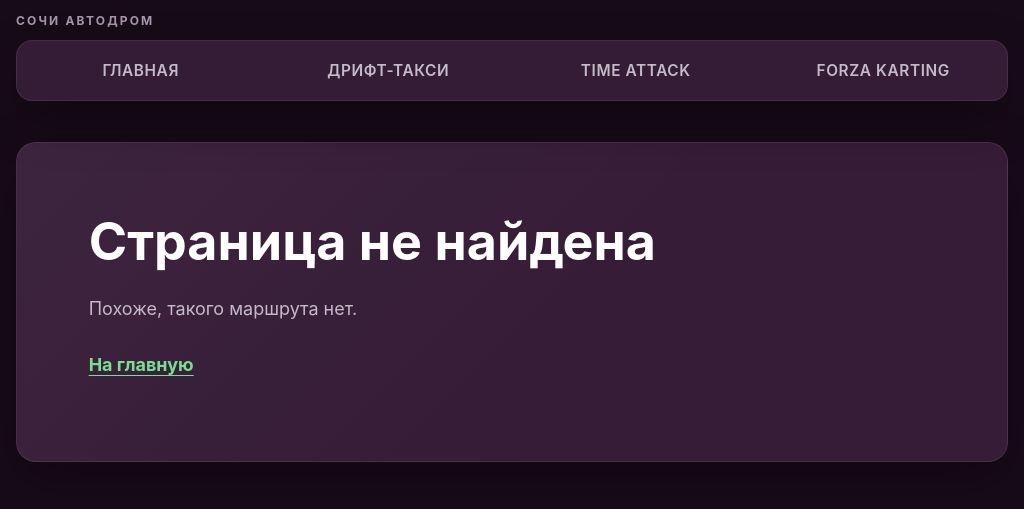
Test: App › renders a 404 page and returns home through its link
Expected: the heading "Страница не найдена" is shown, [89,215,720,269]
Click the link "На главную" at (141, 364), box [89,349,194,380]
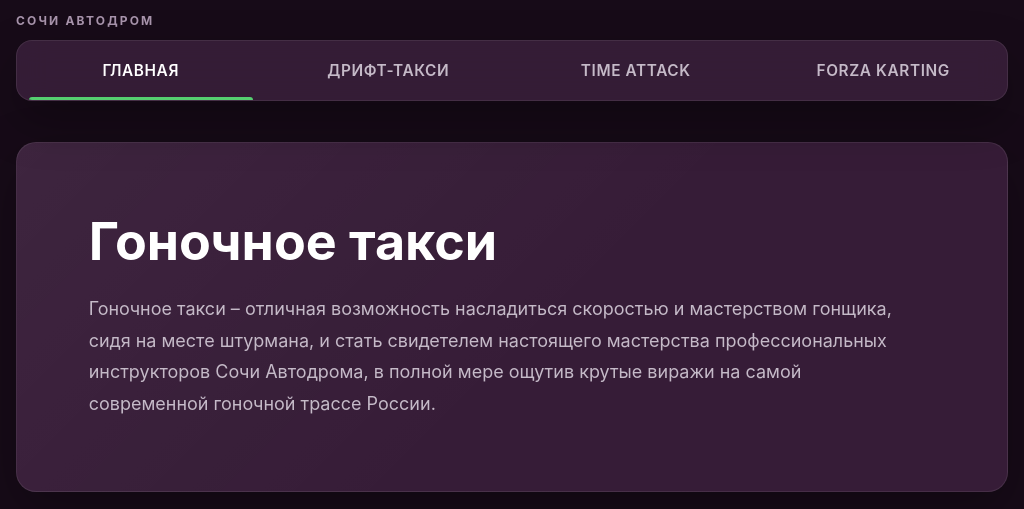
Expected: the heading "Гоночное такси" is shown, [89,210,497,273]
